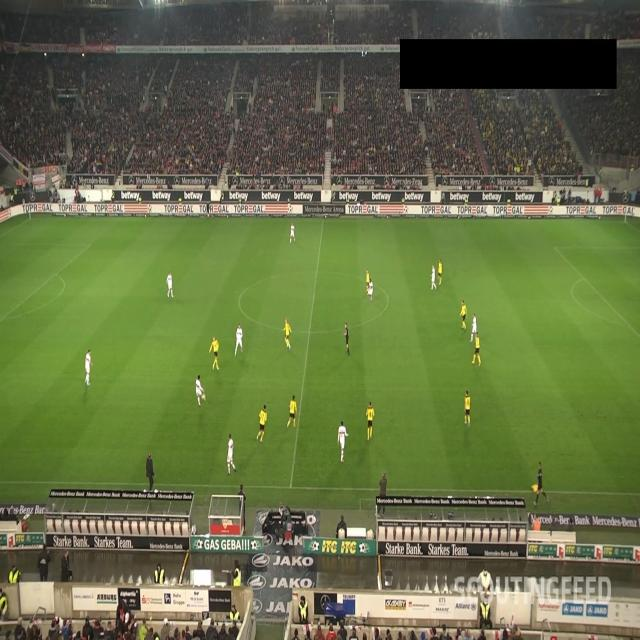ball: (202, 393, 206, 401)
